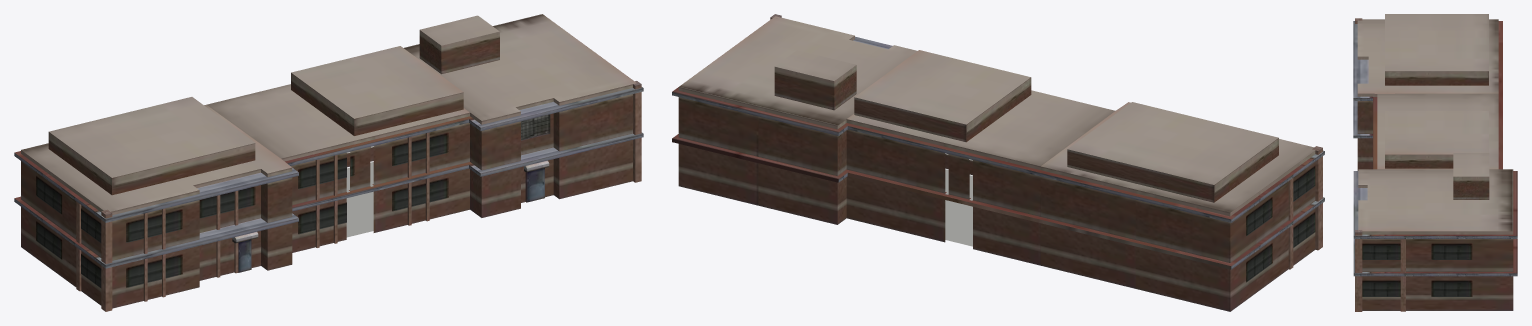
File: ind-warehouse-4.zfix-v1.lod1.glb
3 renders of one model, left to right at view 1: azimuth 30°, elevation 25°; view 2: azimuth 150°, elevation 25°; view 3: azimuth 270°, elevation 25°, orthographic. The views are drawn at different scales.
Visible parts, largest first — view 1: Industrial_Warehouse_4_Industrial_Facade_Flr_1_0, Walkable floors and stairs; view 2: Industrial_Warehouse_4_Industrial_Facade_Flr_1_0, Walkable floors and stairs; view 3: Industrial_Warehouse_4_Industrial_Facade_Flr_1_0.
Boxes of the visible parts, left/top/right/bottom form: Industrial_Warehouse_4_Industrial_Facade_Flr_1_0: left=14, top=14, right=643, bottom=311; Walkable floors and stairs: left=346, top=162, right=373, bottom=237; Industrial_Warehouse_4_Industrial_Facade_Flr_1_0: left=672, top=14, right=1324, bottom=311; Walkable floors and stairs: left=945, top=169, right=972, bottom=246; Industrial_Warehouse_4_Industrial_Facade_Flr_1_0: left=1353, top=14, right=1517, bottom=311.
Bounding box in the file's own units: 42.08 × 9.38 × 13.59.
3 materials, 1 textured.
